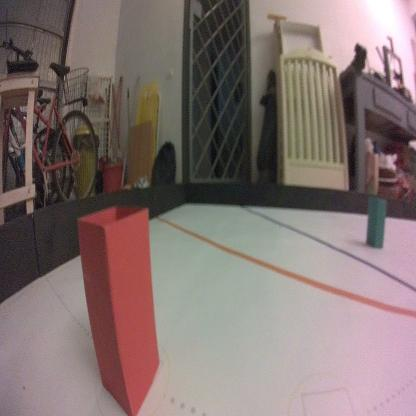green: (365, 193, 388, 251)
red: (76, 204, 162, 416)
